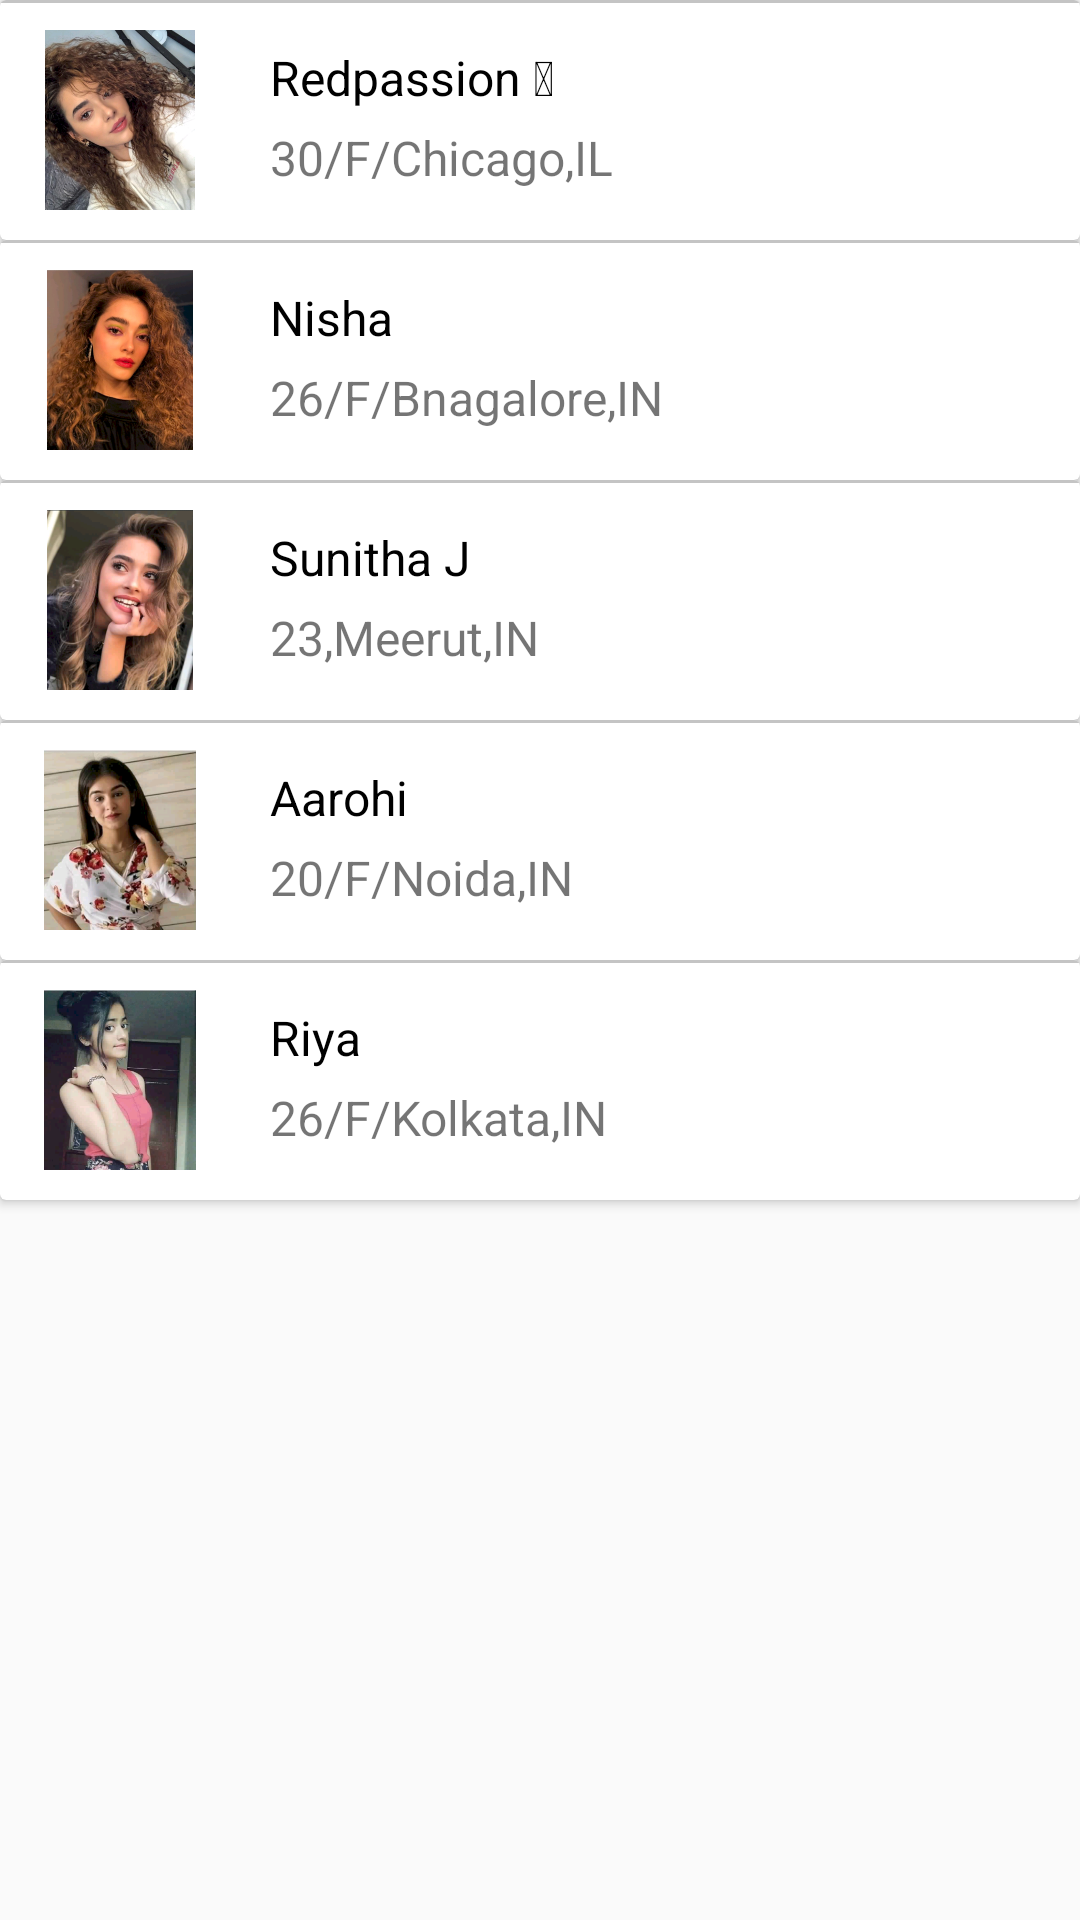

Where icons sit on this 1080×1920 app screen, as (x1, y1, x2, y2):
girl: (45, 30, 195, 210), (47, 270, 193, 450), (47, 510, 193, 690), (44, 750, 196, 930), (44, 990, 196, 1170)
